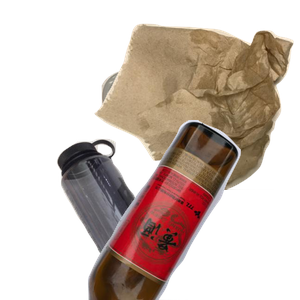glass: (85, 120, 300, 300)
metal: (99, 68, 244, 184)
plastic: (54, 136, 209, 300)
trash: (92, 21, 300, 201)
